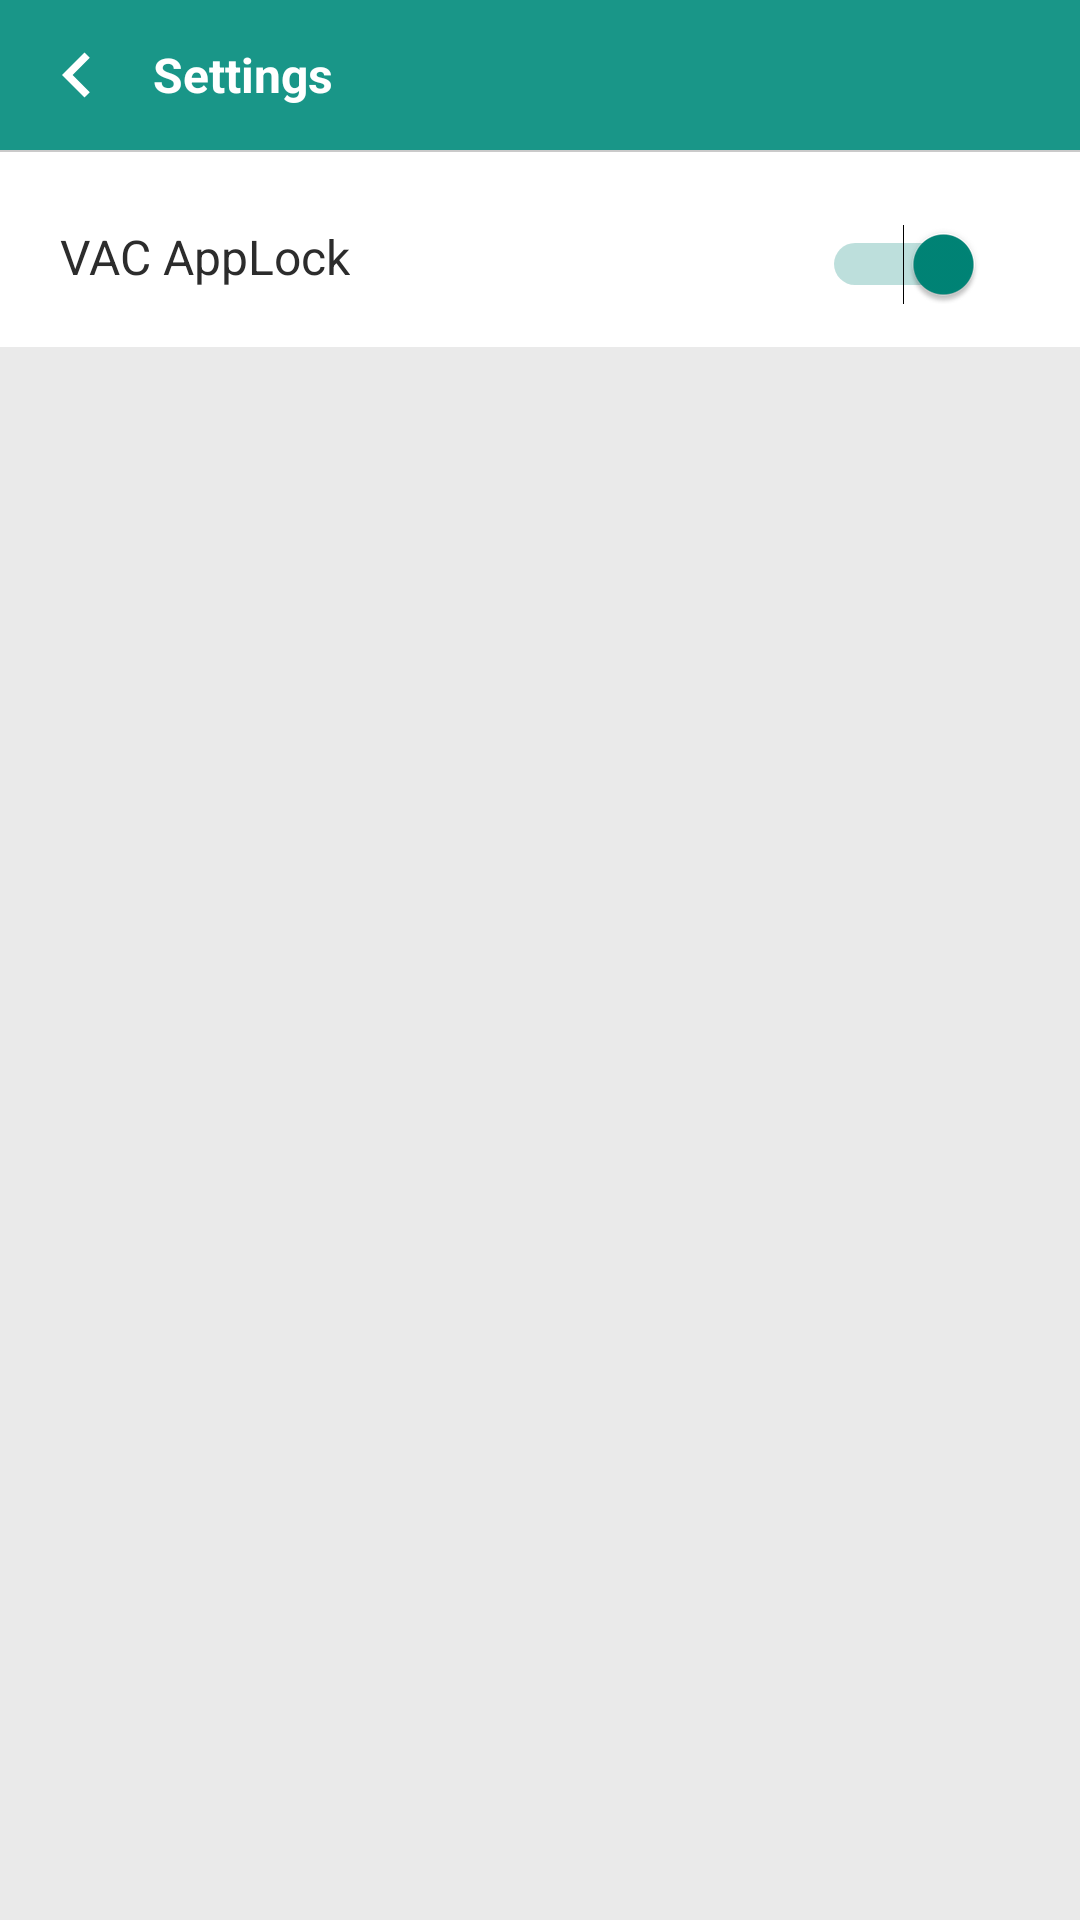

Screen size 1080*1920. Icon name, then its center in pixels as [x,y]:
back: [76,75]
